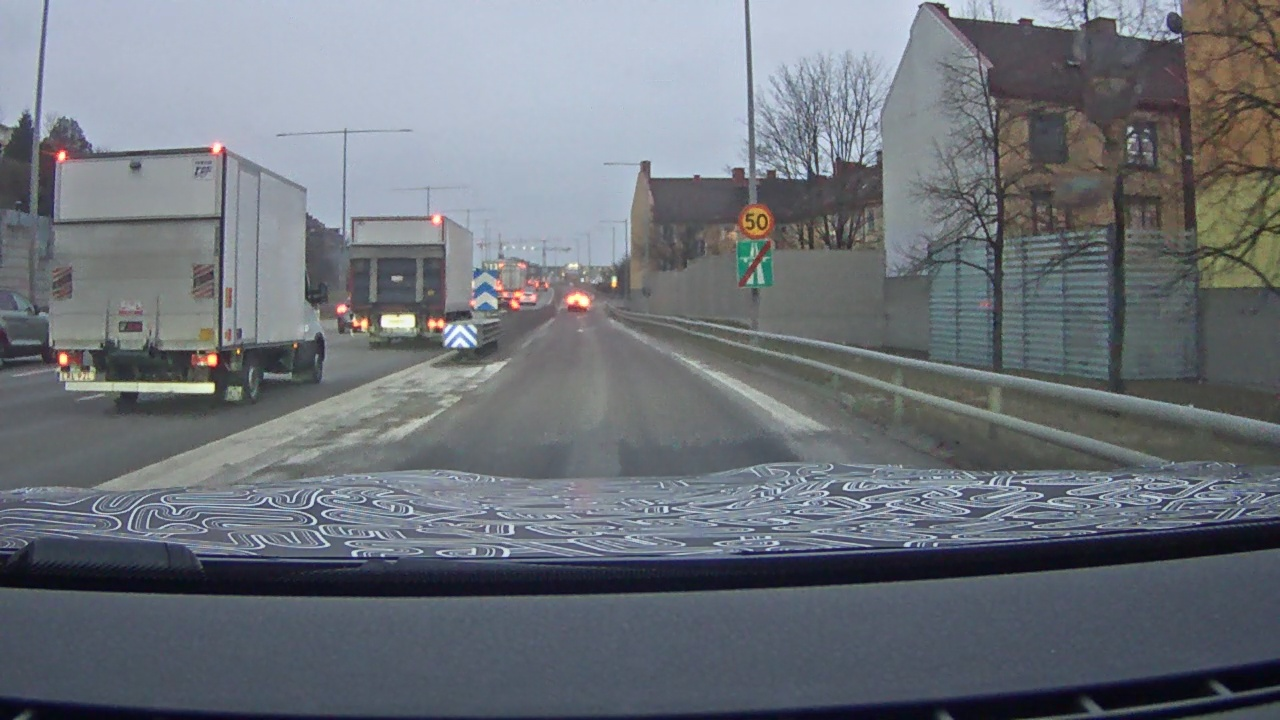Regular_End_Of_Motorway: (736, 239, 774, 290)
